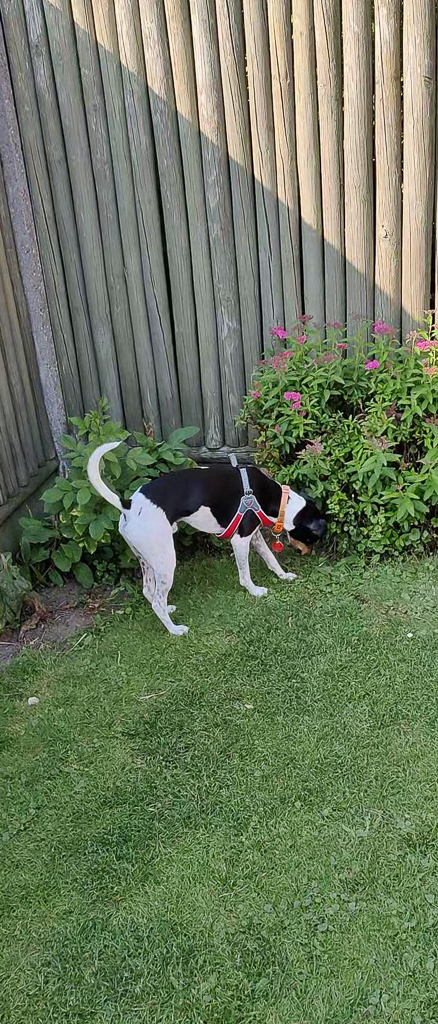Dog: (79, 430, 337, 642)
